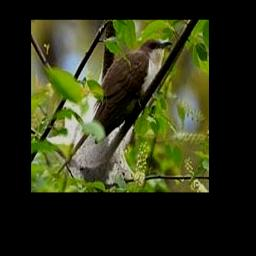Cuckoo: (58, 39, 172, 173)
